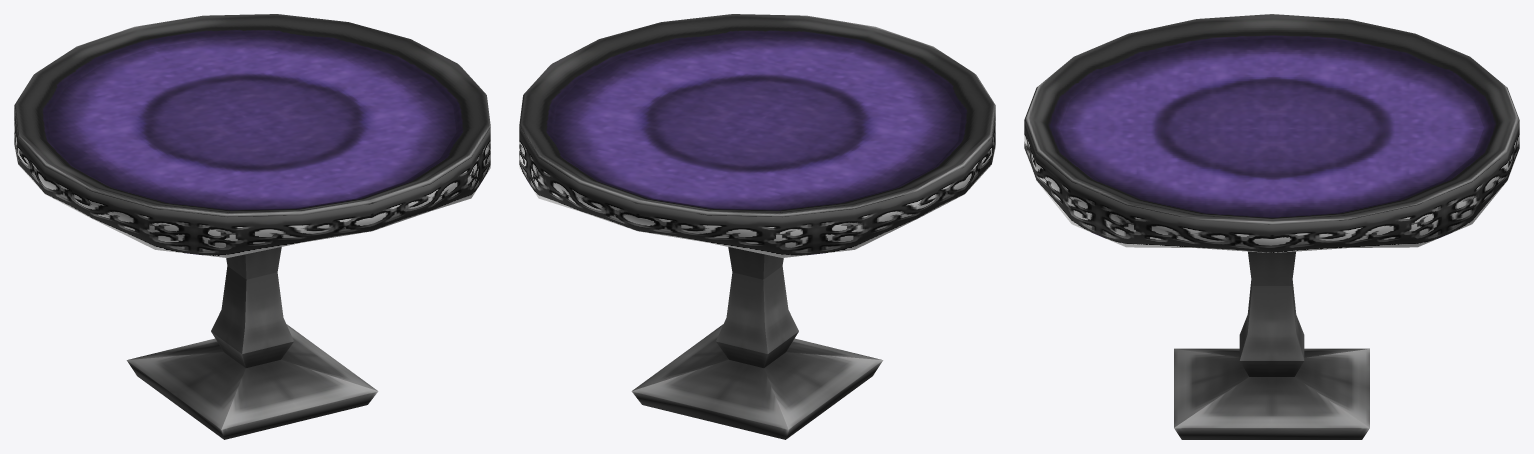
File: BaroqueRoundTable_HD.fbx
The picture shows the model from 3 angles, left to right: view 1: azimuth 30°, elevation 25°; view 2: azimuth 150°, elevation 25°; view 3: azimuth 270°, elevation 25°; orthographic projection. The views are drawn at different scales.
Visible parts, largest first — view 1: BaroqueRoundTable; view 2: BaroqueRoundTable; view 3: BaroqueRoundTable.
Boxes of the visible parts, bbox=[...] form: BaroqueRoundTable: bbox=[14, 14, 490, 439]; BaroqueRoundTable: bbox=[519, 14, 995, 439]; BaroqueRoundTable: bbox=[1024, 14, 1519, 439].
Size of the model in its own units: 0.941 by 0.6004 by 0.941.
